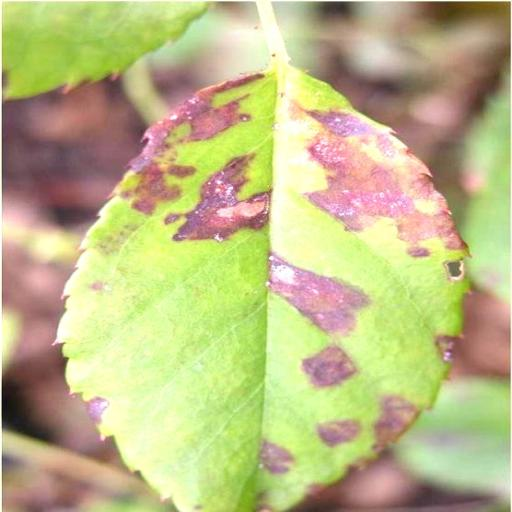downy_mildew: (59, 68, 466, 511)
